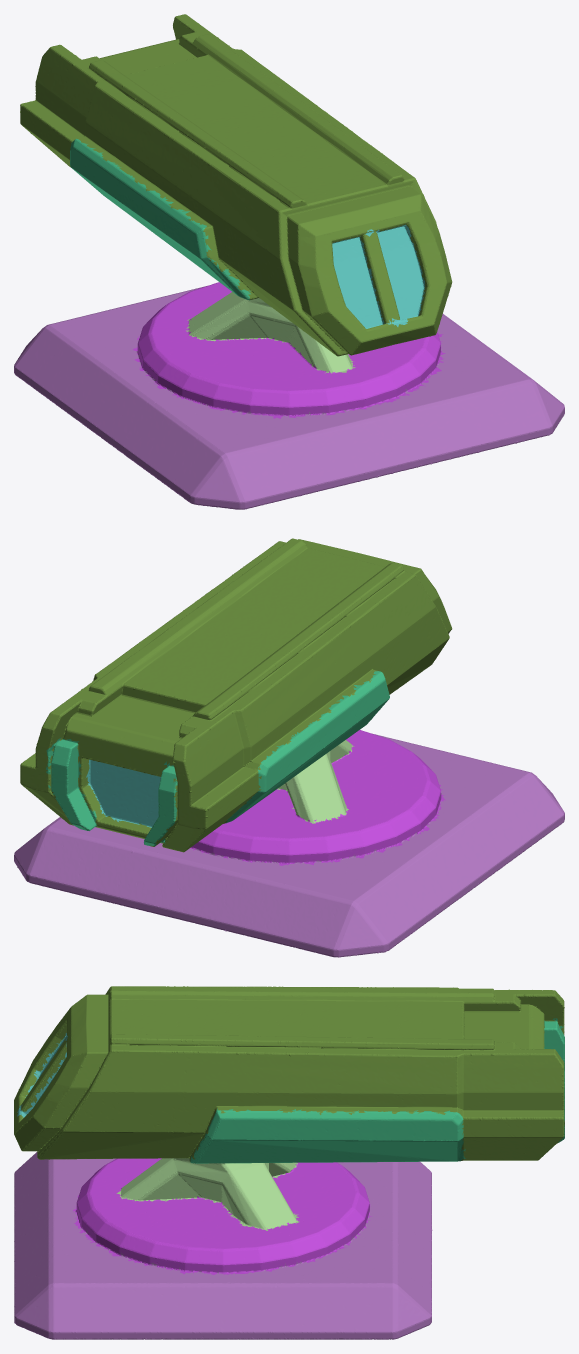
3 renders of one model, top to bottom at view 1: azimuth 30°, elevation 25°; view 2: azimuth 150°, elevation 25°; view 3: azimuth 270°, elevation 25°, orthographic. The views are drawn at different scales.
Parts seen in each view (by area): view 1: world; view 2: world; view 3: world.
Boxes of the visible parts, bbox=[...] form: world: bbox=[14, 14, 564, 509]; world: bbox=[14, 538, 564, 957]; world: bbox=[14, 986, 564, 1339].
Bounding box in the file's own units: 1.45 × 0.9164 × 1.91.
